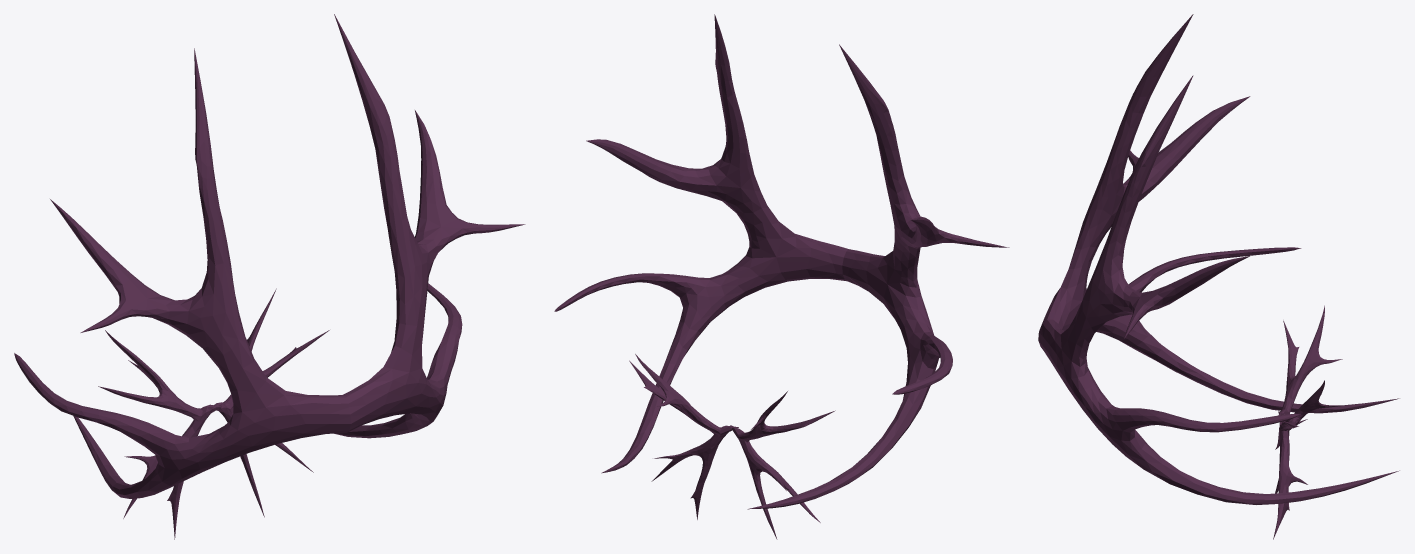
File: crown_.glb
3 views of the same model, side by side, from view 1: azimuth 30°, elevation 25°; view 2: azimuth 150°, elevation 25°; view 3: azimuth 270°, elevation 25° (orthographic). The views are drawn at different scales.
Parts seen in each view (by area): view 1: model_crown_03; view 2: model_crown_03; view 3: model_crown_03.
Part boxes in pixels (x1,y1,x2,y2): model_crown_03: [14, 14, 525, 539]; model_crown_03: [554, 14, 1009, 539]; model_crown_03: [1038, 14, 1399, 539].
Bounding box in the file's own units: 0.3515 × 0.3996 × 0.2759.
